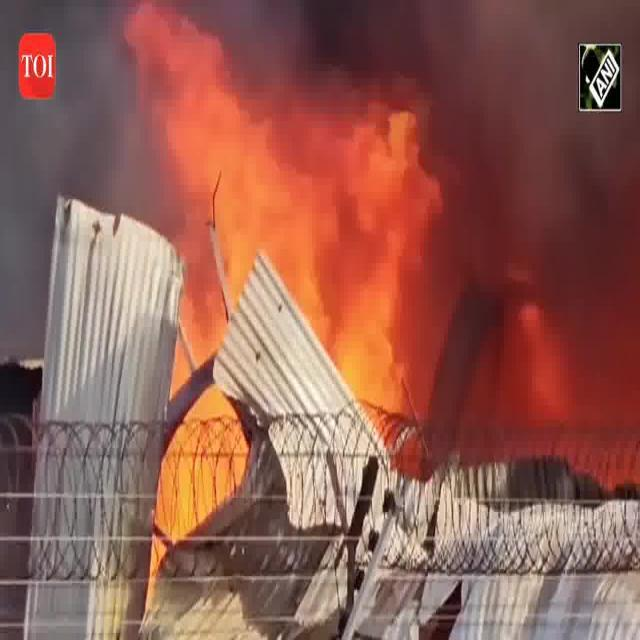Fire: (193, 160, 403, 462)
Smoke: (452, 23, 579, 221), (14, 110, 152, 176)
